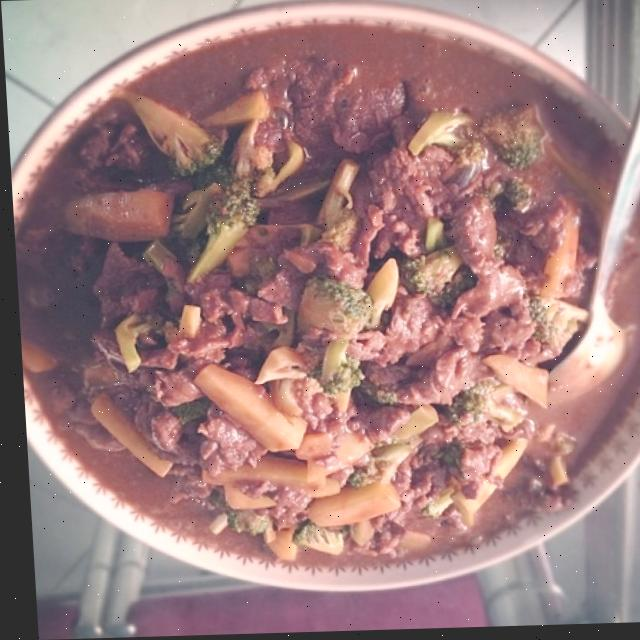牛肉菜式: (2, 25, 640, 608)
